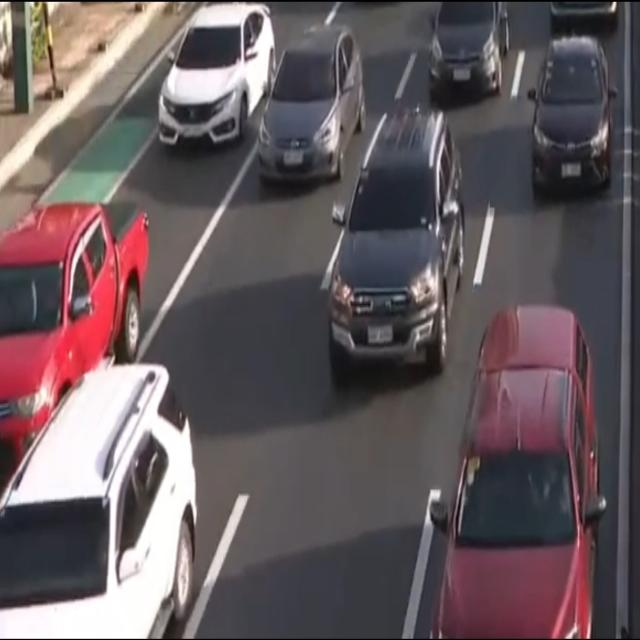SUV: (428, 302, 607, 640), (0, 362, 200, 640), (0, 198, 153, 501), (326, 105, 466, 388)
Sedan: (155, 0, 275, 149), (254, 27, 364, 185), (526, 35, 618, 200), (426, 0, 511, 104)
